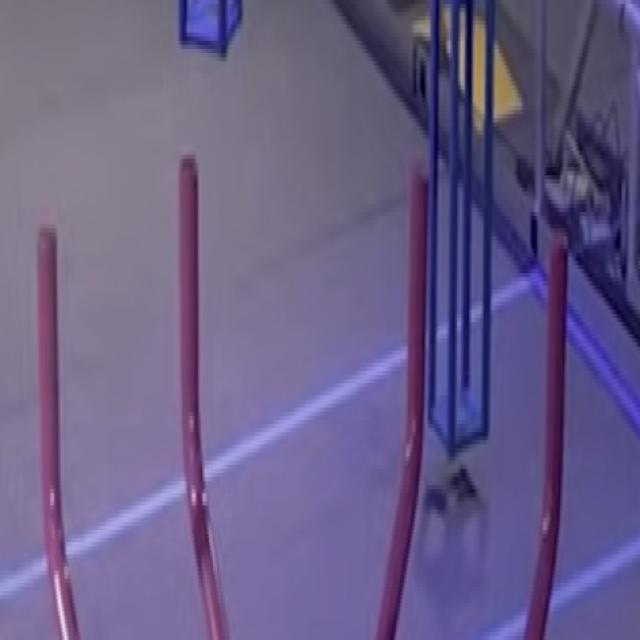Reef: (180, 158, 203, 527), (38, 228, 61, 562), (406, 160, 429, 472), (544, 232, 567, 536)
